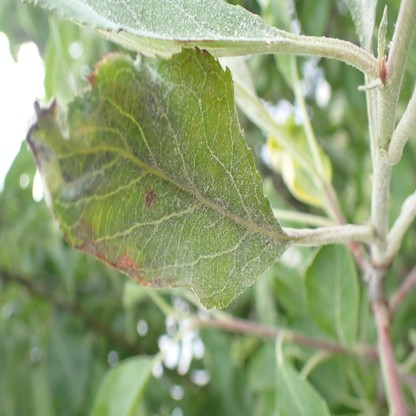frogeye_leaf_spot: (145, 191, 156, 205)
powdery_mildew: (26, 44, 292, 308), (18, 1, 287, 54)
